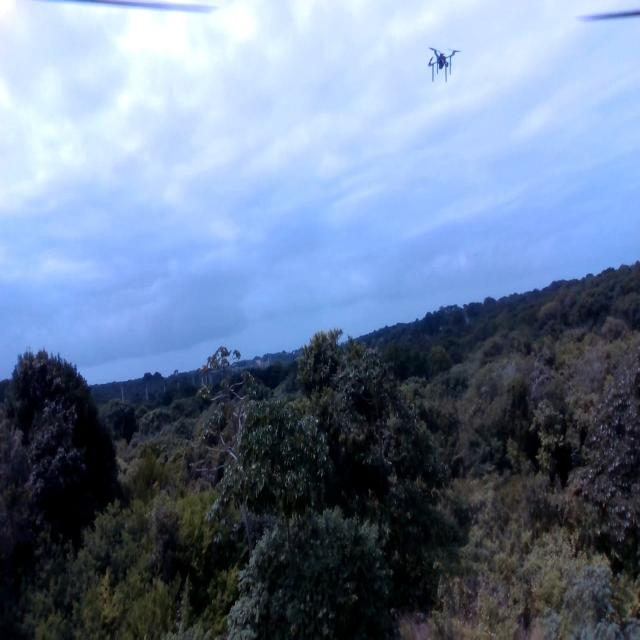-uav-: (420, 43, 463, 93)
